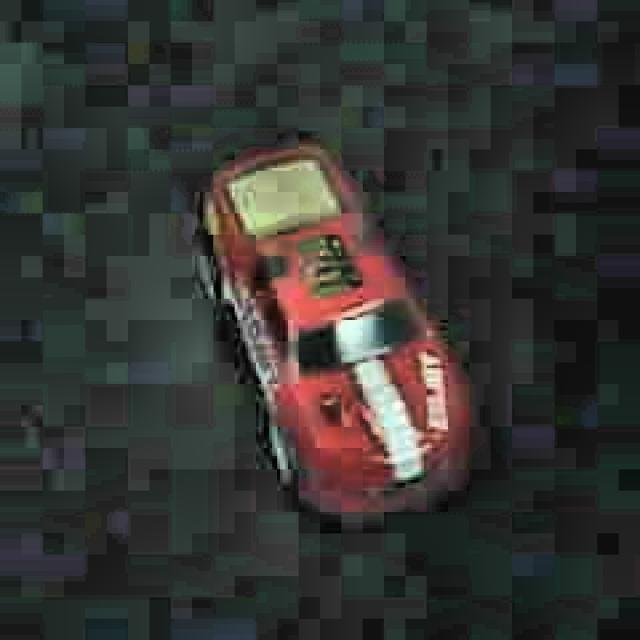car: (190, 132, 477, 521)
